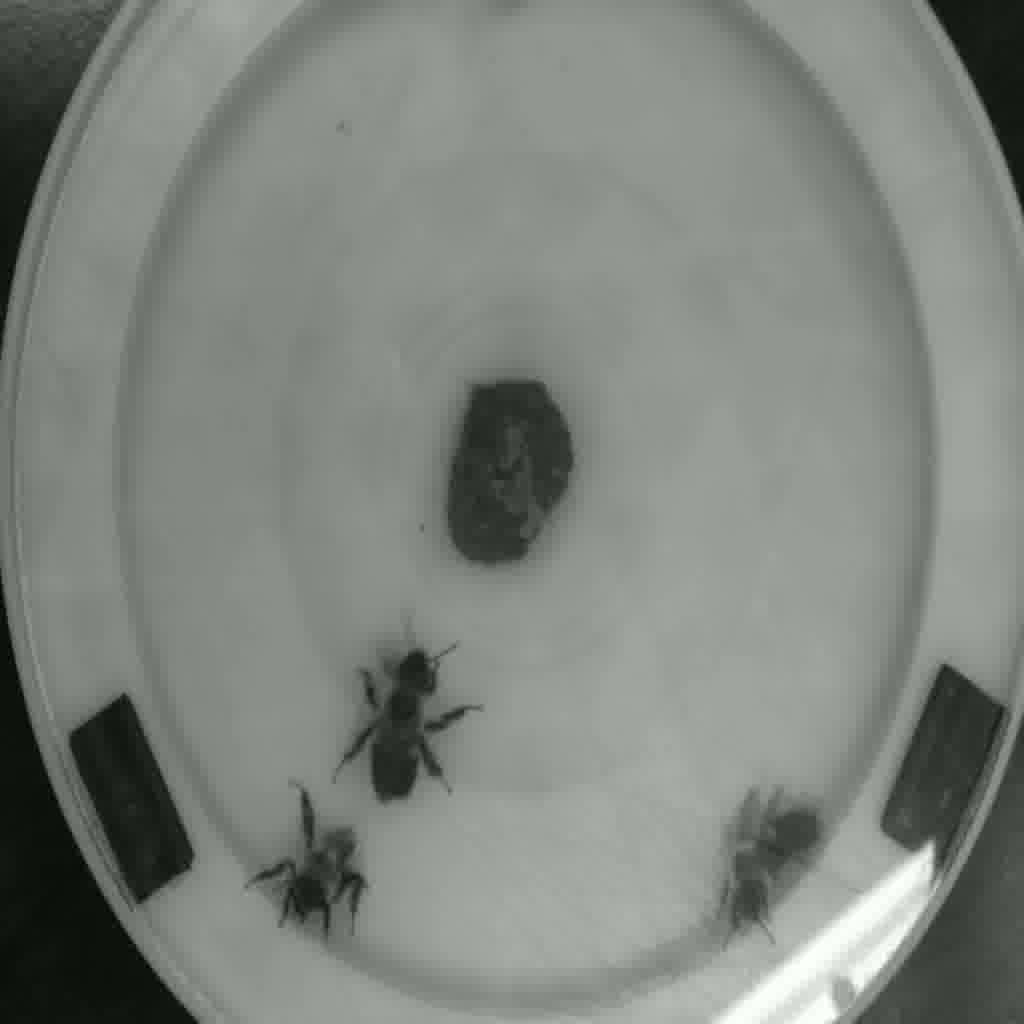bee: (322, 624, 496, 811), (247, 807, 404, 946), (697, 783, 841, 925)
